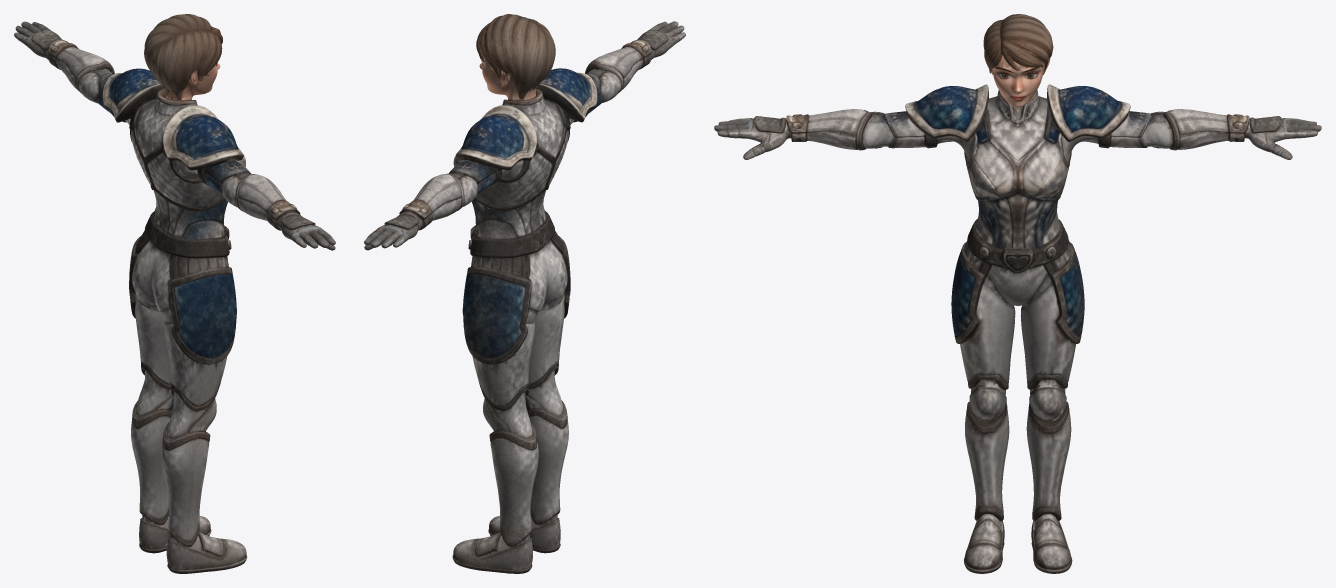
The model's file is keepers-civilian.glb.
3 views of the same model, side by side, from view 1: azimuth 30°, elevation 25°; view 2: azimuth 150°, elevation 25°; view 3: azimuth 270°, elevation 25° (orthographic).
Bounding box in the file's own units: 0.178 × 1 × 1.03.
1 material, 1 textured.
